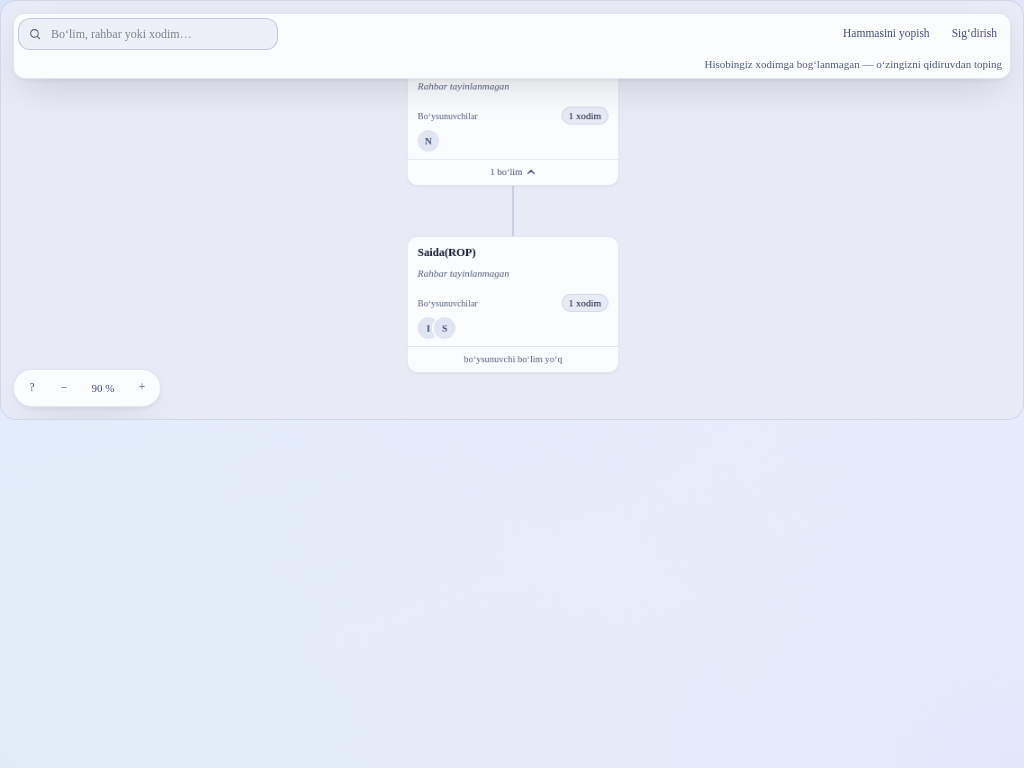
it: org chart behaviour › lists the people a search matched, and picks one by name
The image size is (1024, 768).
Step 1. Type "saida" into the search field with placeholder "Boʻlim, rahbar yoki xodim…" → coordinates (148, 34), box [18, 18, 278, 50]
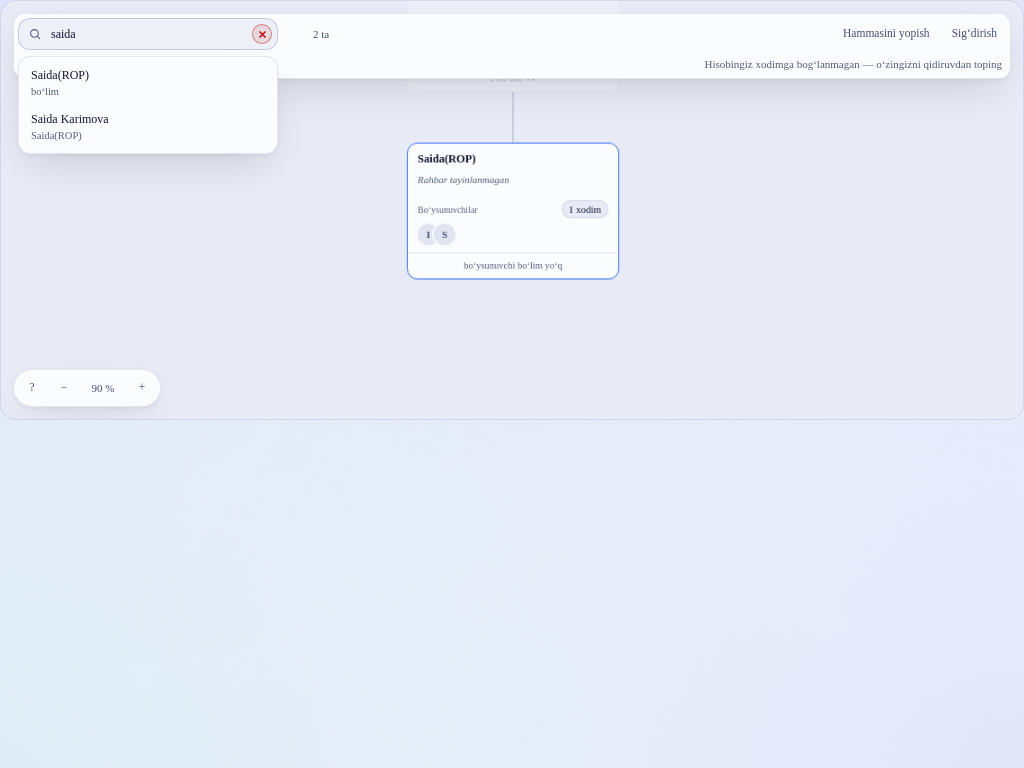
Result: the button with class "org-hit" shows "boʻlim" at [23, 61, 273, 105]
Result: the button with class "org-hit" shows "Saida Karimova"
Result: the button with class "org-hit" shows "Saida(ROP)"
Step 2. Click the button with class "org-hit" showing "Saida Karimova Saida(ROP)" → coordinates (148, 127), box [23, 105, 273, 149]
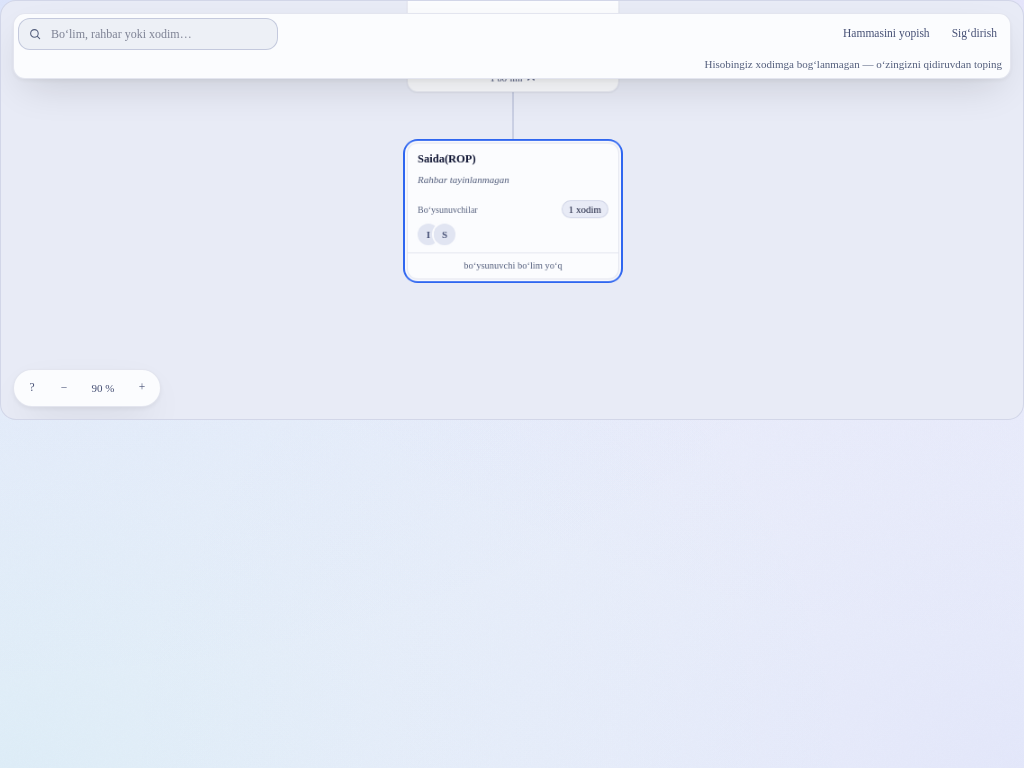
Result: the element with class "org-hits" is gone
